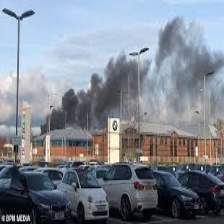smoke: (38, 19, 215, 136)
